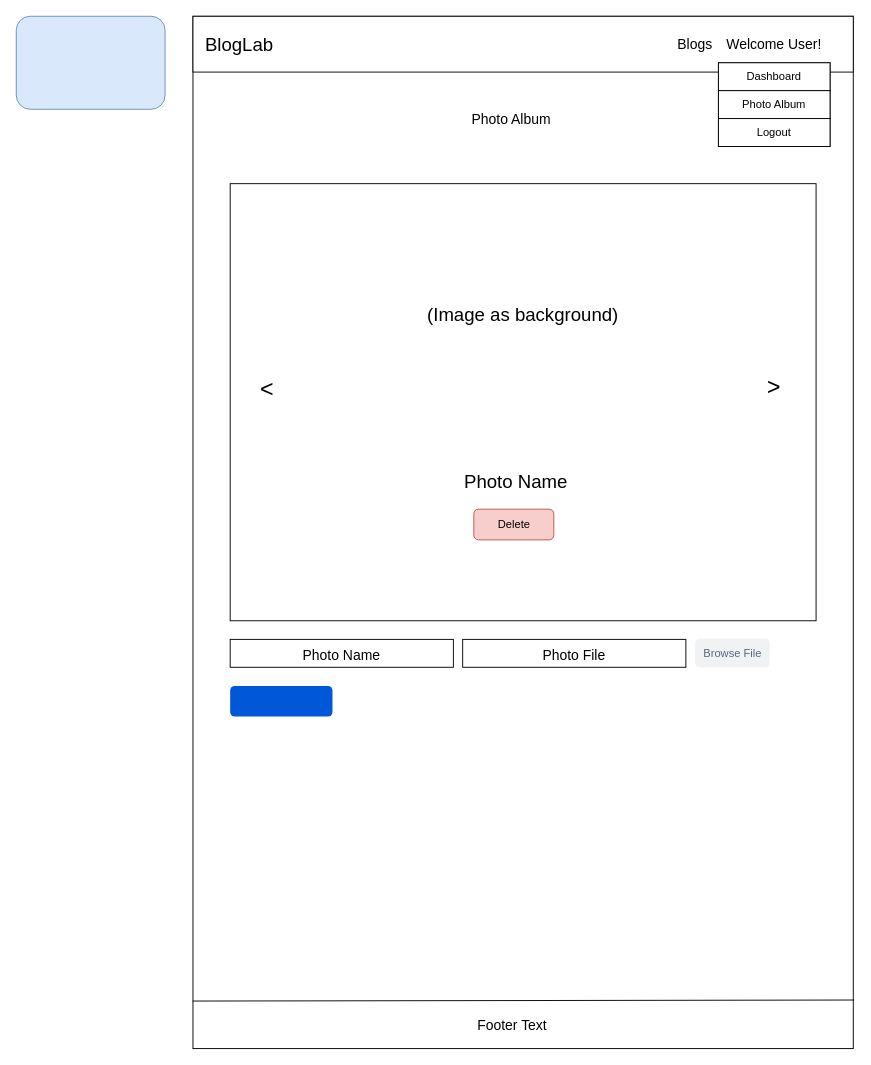
The diagram is 871 pixels wide and 1065 high, and some of its shapes have lost their labels. Each missing label, with the box of its shape:
Photo Album Component: (15, 15, 165, 109)
Upload Image: (230, 685, 332, 716)
